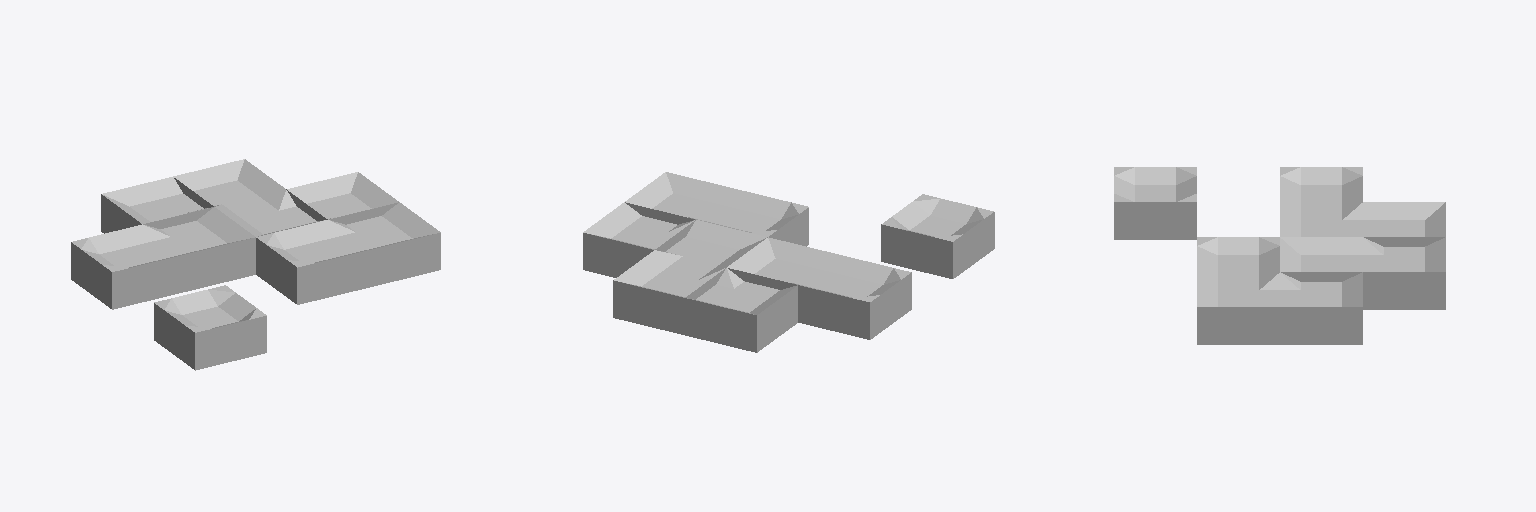
Rendered from 78s_path.obj.
3 renders of one model, left to right at view 1: azimuth 30°, elevation 25°; view 2: azimuth 150°, elevation 25°; view 3: azimuth 270°, elevation 25°, orthographic.
Visible parts, largest first — view 1: hole.1.1_Cube.306, ending.3.2_ending.610, ending.1.3_ending.609, corner.4.2_corner.1520, corner.2.3_corner.1516, corner.2.4_corner.1517, corner.3.4_corner.1519, corner.4.3_corner.1521, corner.3.3_corner.1518; view 2: hole.1.1_Cube.306, ending.1.3_ending.609, corner.2.4_corner.1517, corner.3.4_corner.1519, corner.4.3_corner.1521, corner.4.2_corner.1520, corner.2.3_corner.1516, ending.3.2_ending.610, corner.3.3_corner.1518; view 3: hole.1.1_Cube.306, corner.3.4_corner.1519, corner.4.3_corner.1521, corner.4.2_corner.1520, ending.3.2_ending.610, ending.1.3_ending.609, corner.3.3_corner.1518, corner.2.4_corner.1517, corner.2.3_corner.1516.
Part boxes in pixels (x1,y1,x2,y2): hole.1.1_Cube.306: (154,285,266,370); ending.3.2_ending.610: (256,220,368,304); ending.1.3_ending.609: (71,224,183,309); corner.4.2_corner.1520: (328,202,440,287); corner.2.3_corner.1516: (143,207,255,291); corner.2.4_corner.1517: (101,177,212,233); corner.3.4_corner.1519: (173,159,285,211); corner.4.3_corner.1521: (287,172,398,220); corner.3.3_corner.1518: (215,189,326,236); hole.1.1_Cube.306: (881,194,994,278); ending.1.3_ending.609: (798,255,911,339); corner.2.4_corner.1517: (685,268,797,352); corner.3.4_corner.1519: (613,250,725,334); corner.4.3_corner.1521: (583,202,695,277); corner.4.2_corner.1520: (625,172,737,224); corner.2.3_corner.1516: (727,237,838,289); ending.3.2_ending.610: (700,190,808,246); corner.3.3_corner.1518: (655,220,767,272); hole.1.1_Cube.306: (1114,167,1196,239); corner.3.4_corner.1519: (1363,237,1445,309); corner.4.3_corner.1521: (1280,272,1362,344); corner.4.2_corner.1520: (1197,272,1279,344); ending.3.2_ending.610: (1197,237,1279,281); ending.1.3_ending.609: (1280,167,1362,211); corner.3.3_corner.1518: (1280,237,1362,281); corner.2.4_corner.1517: (1363,202,1445,236); corner.2.3_corner.1516: (1280,202,1362,236).
Size of the model in its own units: 8 by 1 by 8.